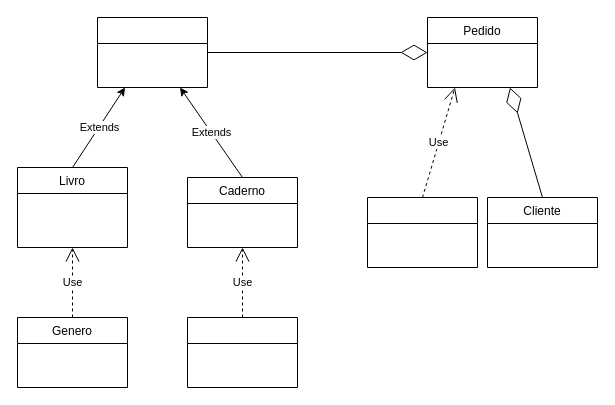
Some shapes in this 615 by 405 pixel diagram are drawn without their labels. Here are the shapes that lost their labels. From the top down, the centre of each, then its label:
(152,52): Produto
(422,232): Cupom
(242,352): Materias
